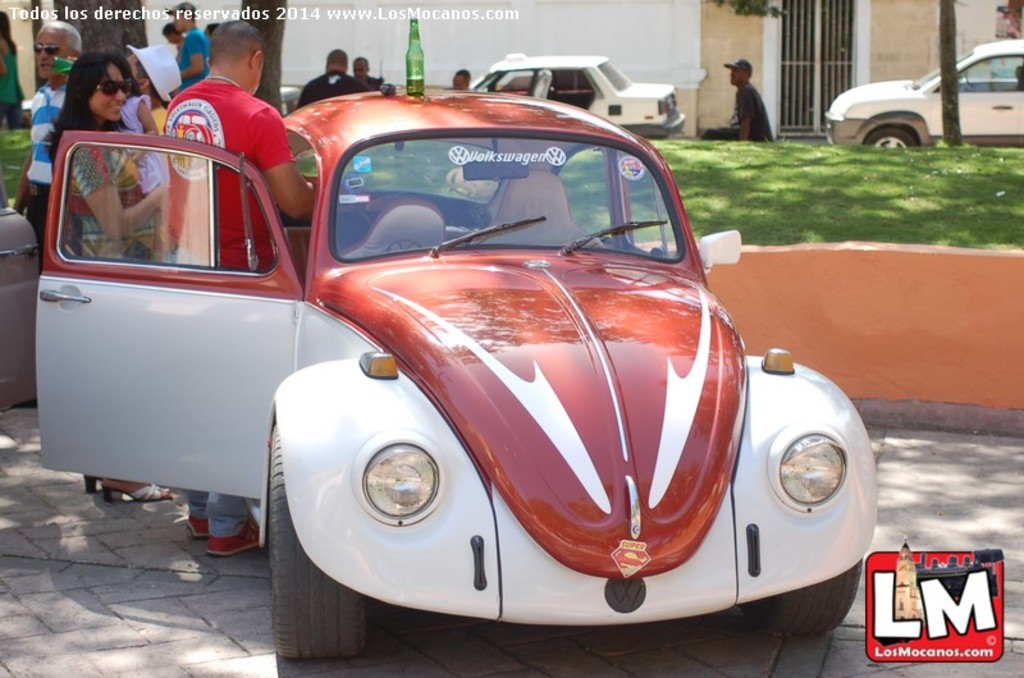person: (698, 57, 777, 142)
